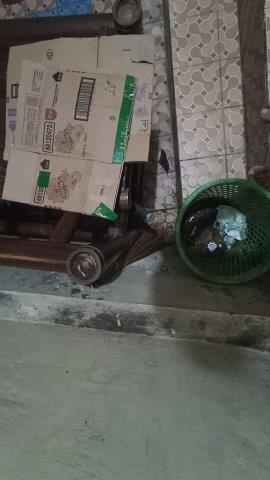kardus: (2, 36, 153, 217)
